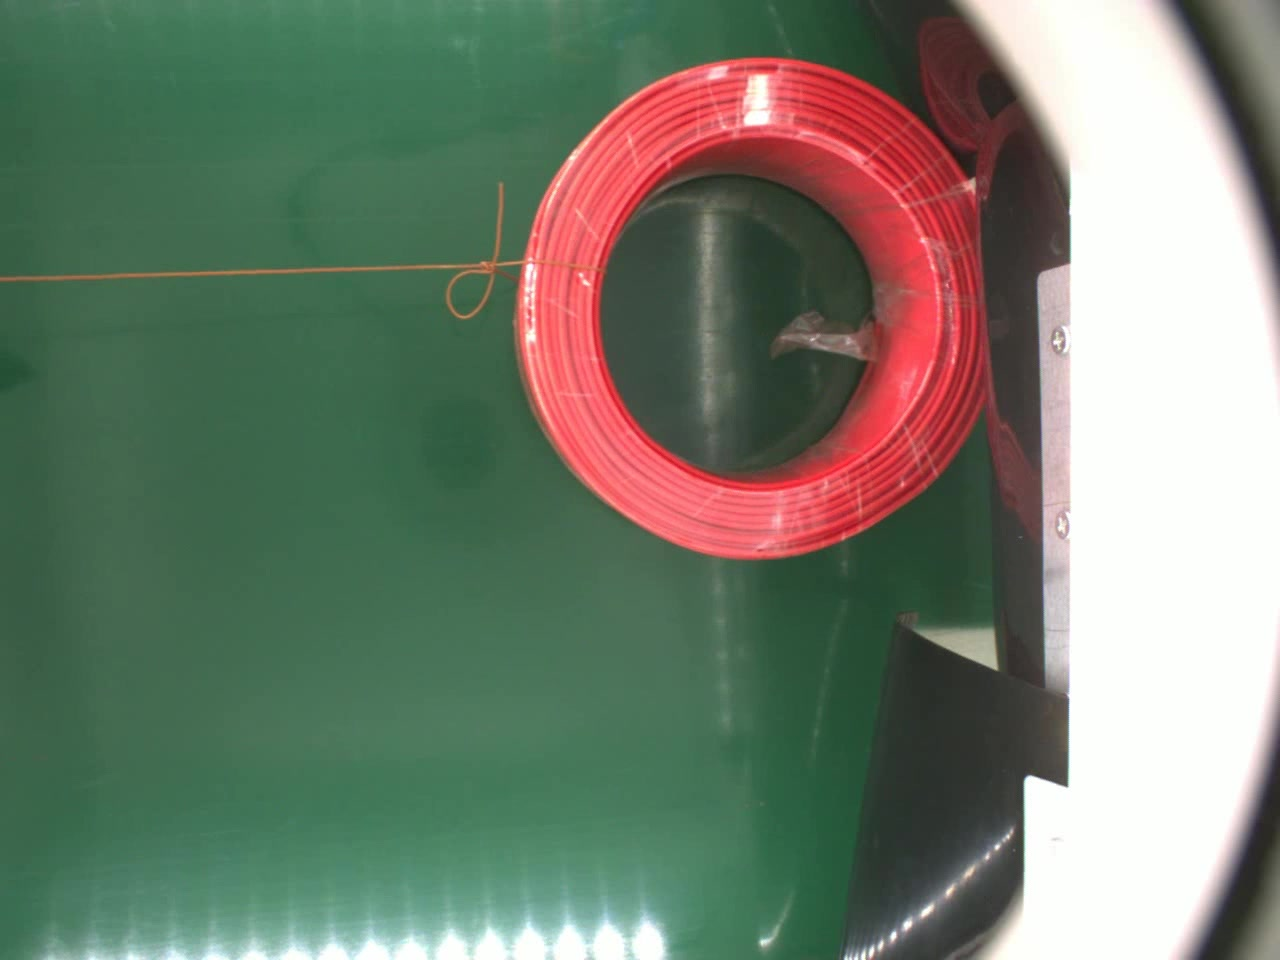red: (511, 49, 987, 558)
